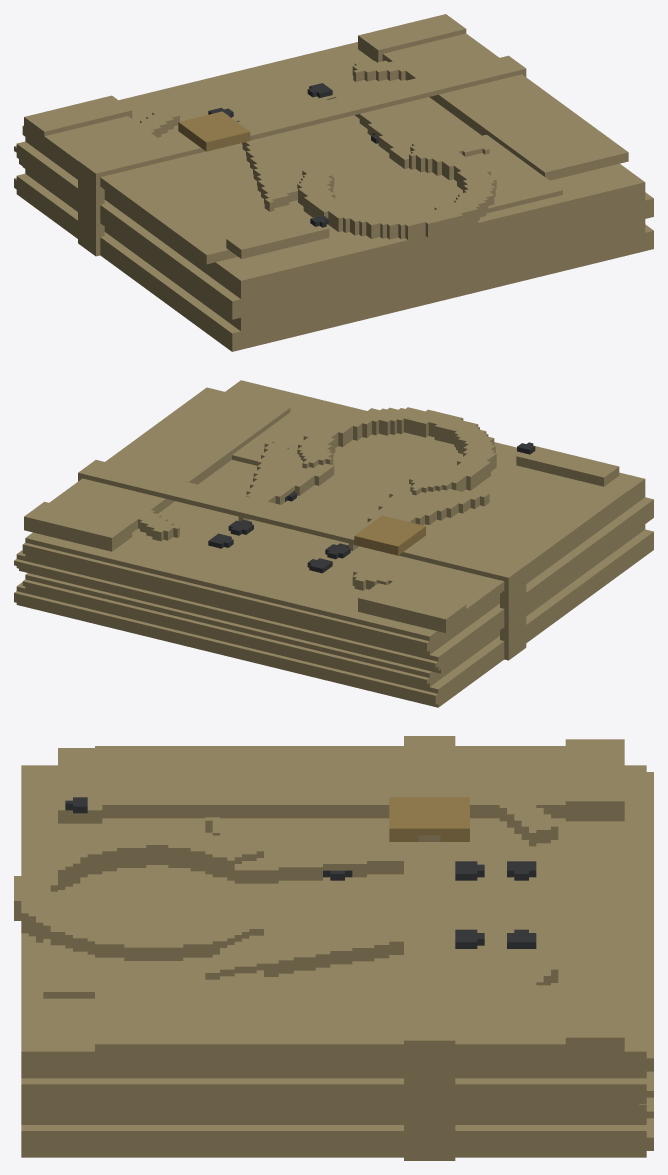
The model's file is trenchcoat.glb.
The picture shows the model from 3 angles, top to bottom: view 1: azimuth 30°, elevation 25°; view 2: azimuth 150°, elevation 25°; view 3: azimuth 270°, elevation 25°; orthographic projection. The views are drawn at different scales.
Visible parts, largest first — view 1: trenchcoat:compound; view 2: trenchcoat:compound; view 3: trenchcoat:compound.
Part boxes in pixels (bbox=[...]): trenchcoat:compound: bbox=[14, 14, 653, 351]; trenchcoat:compound: bbox=[14, 380, 653, 707]; trenchcoat:compound: bbox=[14, 736, 653, 1160].
Bounding box in the file's own units: 0.392 × 0.08 × 0.348.
